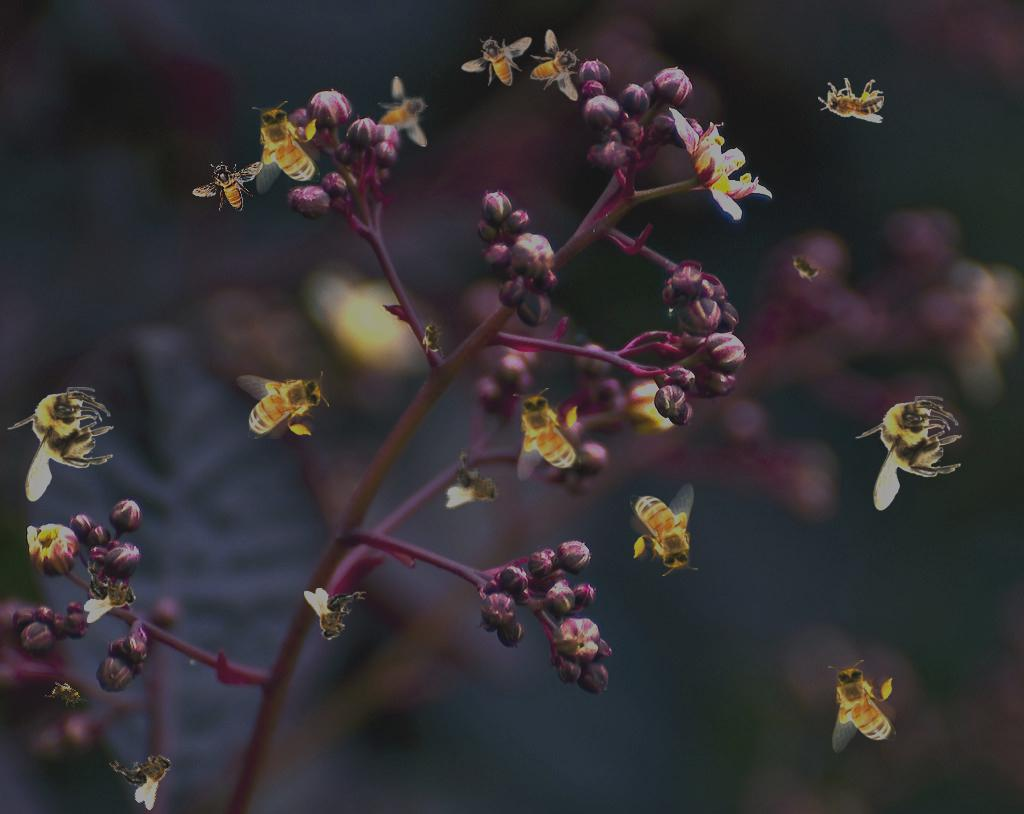Bee: (7, 387, 114, 502), (855, 396, 962, 511), (106, 731, 187, 813), (236, 371, 329, 439), (630, 483, 698, 576), (513, 388, 581, 481), (252, 101, 320, 194), (828, 660, 896, 753), (441, 447, 510, 521), (528, 28, 582, 101), (192, 161, 263, 211), (461, 36, 532, 86), (378, 76, 428, 147), (84, 561, 137, 623), (304, 588, 366, 641), (818, 78, 884, 123), (782, 244, 828, 288), (44, 676, 90, 714), (422, 317, 444, 357)
